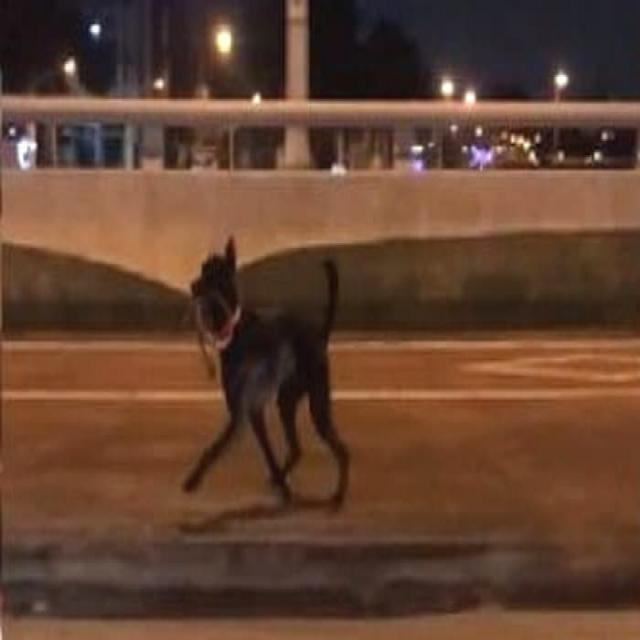dog: (171, 190, 365, 520)
